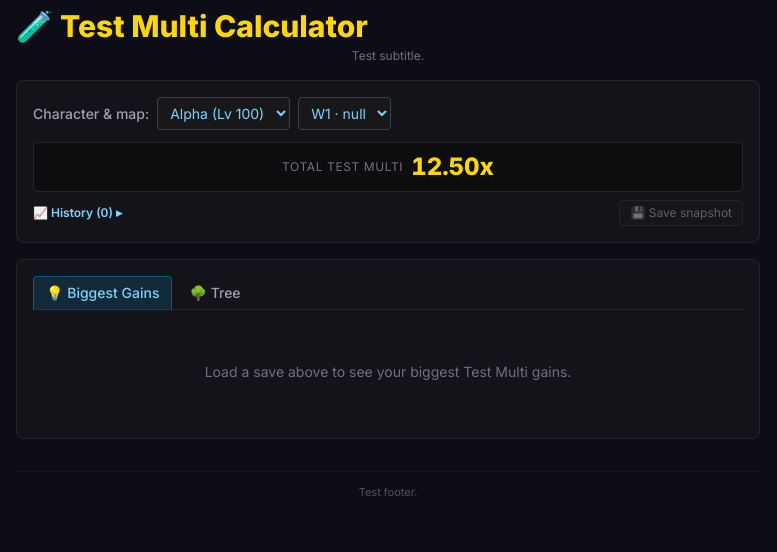
Scenario: StatPageClient — the tracker header › Compare vs Observed Max is a checkbox at the tab strip's right end, on the Tree tab only
Expected: the field labelled "Compare vs Observed Max" is not shown
Click the button "🌳 Tree" at (215, 293), box [176, 276, 254, 310]
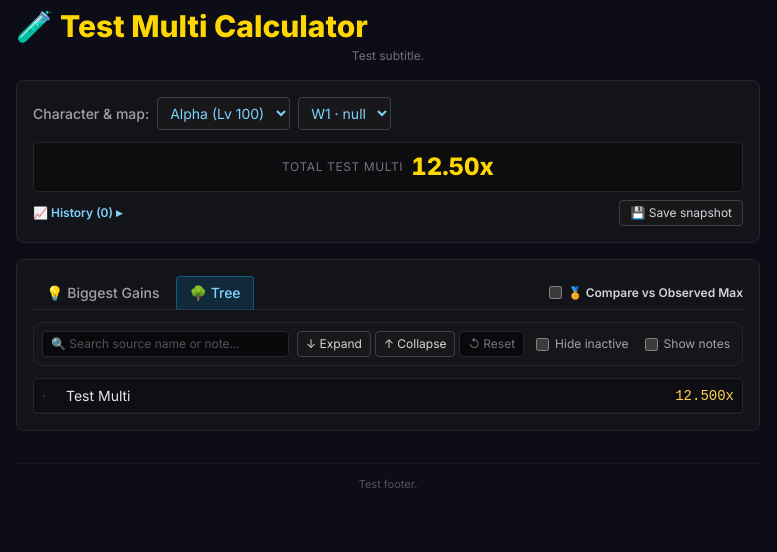
Expected: the checkbox labelled "🏅 Compare vs Observed Max" is not checked
Click the checkbox labelled "🏅 Compare vs Observed Max" at (555, 292), box [549, 286, 562, 299]
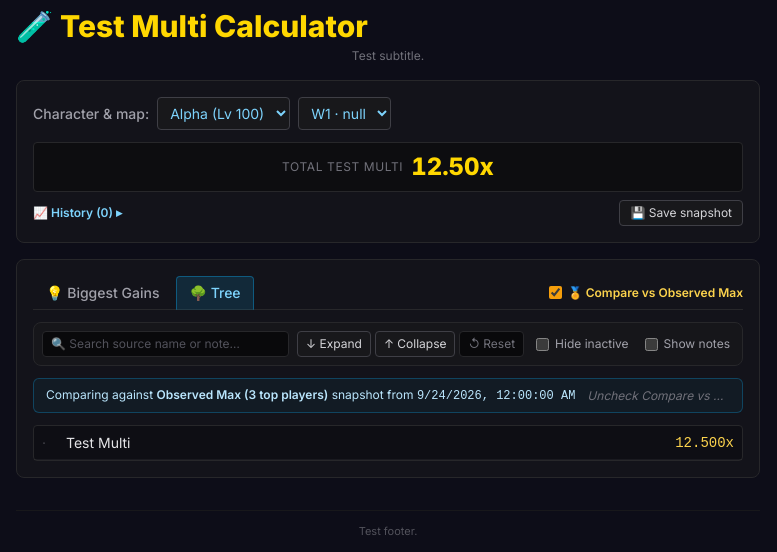
Expected: the checkbox labelled "🏅 Compare vs Observed Max" is checked
Expected: the text "Observed Max (3 top players)" is shown, [156, 387, 328, 402]
Click the checkbox labelled "🏅 Compare vs Observed Max" at (555, 292), box [549, 286, 562, 299]
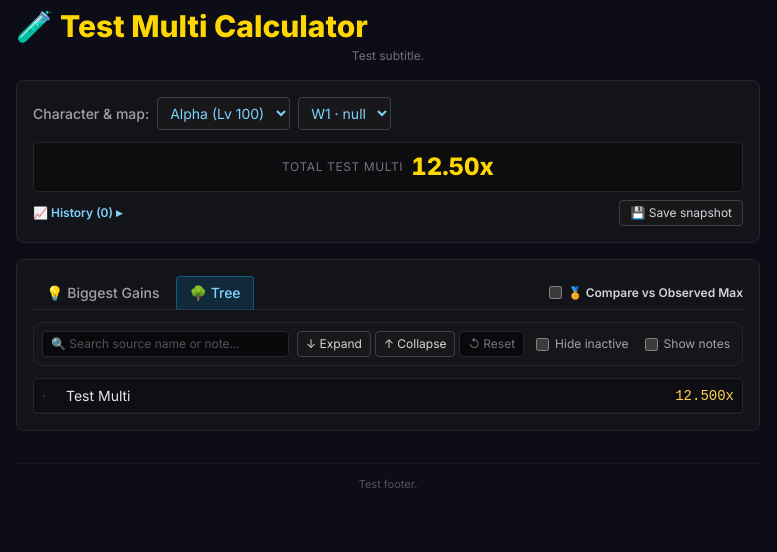
Expected: the text "Observed Max (3 top players)" is gone
Click the button "💡 Biggest Gains" at (103, 293), box [33, 276, 172, 310]
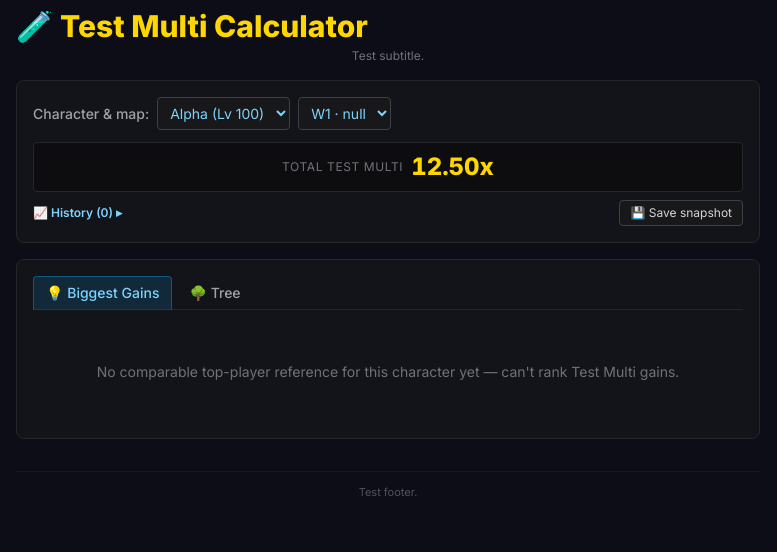
Expected: the label labelled "Compare vs Observed Max" is gone
